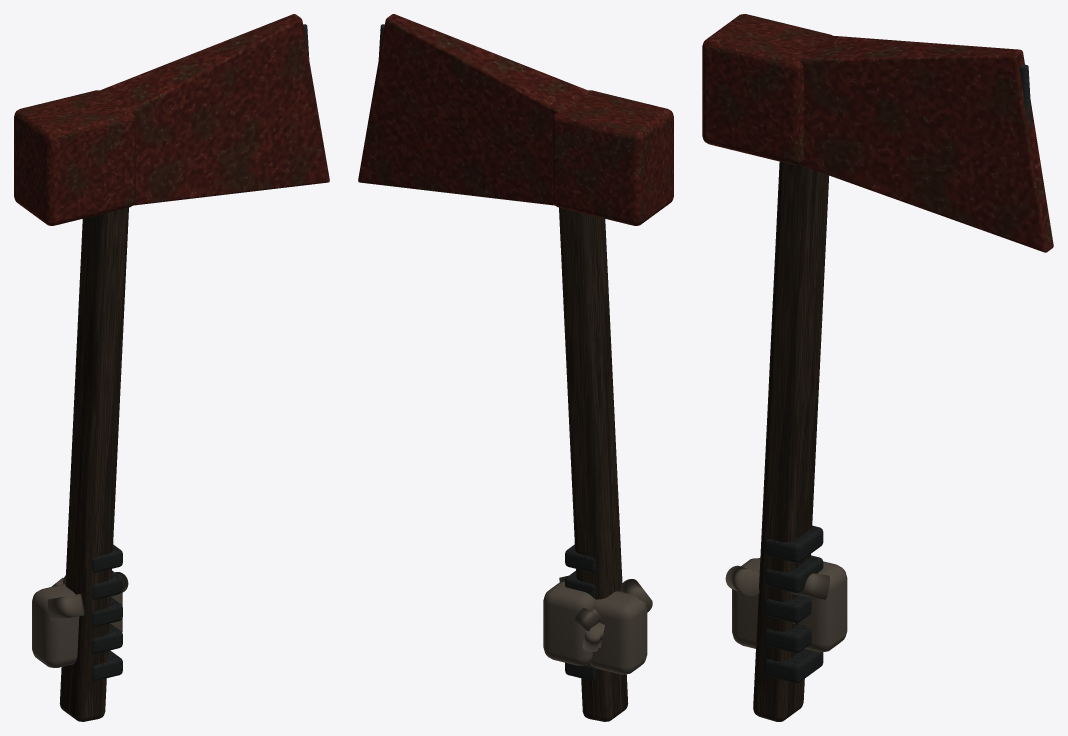
File: axe.glb
The picture shows the model from 3 angles, left to right: view 1: azimuth 30°, elevation 25°; view 2: azimuth 150°, elevation 25°; view 3: azimuth 330°, elevation 25°; orthographic projection. The views are drawn at different scales.
Parts seen in each view (by area): view 1: Chipped fire axe head, Worn ash haft, Axe forged poll, gloved palm.006, thumb.006, Worn grip binding, Worn grip binding.001, Worn grip binding.002, Worn grip binding.003, Worn grip binding.004; view 2: Chipped fire axe head, Worn ash haft, Axe forged poll, gloved palm.006, gloved palm.005, Worn grip binding.004; view 3: Chipped fire axe head, Worn ash haft, Axe forged poll, gloved palm.005, gloved palm.006, Worn grip binding, Worn grip binding.004, Worn grip binding.003, Worn grip binding.001, Worn grip binding.002, thumb.006, thumb.005.
Boxes of the visible parts, x1,y1,x2,y2 form: Chipped fire axe head: (97,14,329,205); Worn ash haft: (59,207,128,721); Axe forged poll: (14,90,135,225); gloved palm.006: (32,583,79,667); thumb.006: (47,594,84,620); Worn grip binding: (92,650,122,680); Worn grip binding.001: (92,623,122,653); Worn grip binding.002: (92,597,122,626); Worn grip binding.003: (92,571,122,599); Worn grip binding.004: (92,544,122,572); Chipped fire axe head: (358,14,590,205); Worn ash haft: (559,207,628,721); Axe forged poll: (552,90,673,225); gloved palm.006: (589,591,647,674); gloved palm.005: (543,581,595,665); Worn grip binding.004: (565,544,595,572); Chipped fire axe head: (795,35,1053,252); Worn ash haft: (753,161,828,721); Axe forged poll: (702,14,832,164); gloved palm.005: (798,561,847,652); gloved palm.006: (732,558,760,648); Worn grip binding: (765,649,823,683); Worn grip binding.004: (765,525,823,562); Worn grip binding.003: (765,555,823,592); Worn grip binding.001: (765,624,811,653); Worn grip binding.002: (765,595,811,622); thumb.006: (725,565,759,596); thumb.005: (790,573,829,599).
Bounding box in the file's own units: 0.345 × 0.7174 × 0.0865.
Materials: 5 (4 with a texture image).
